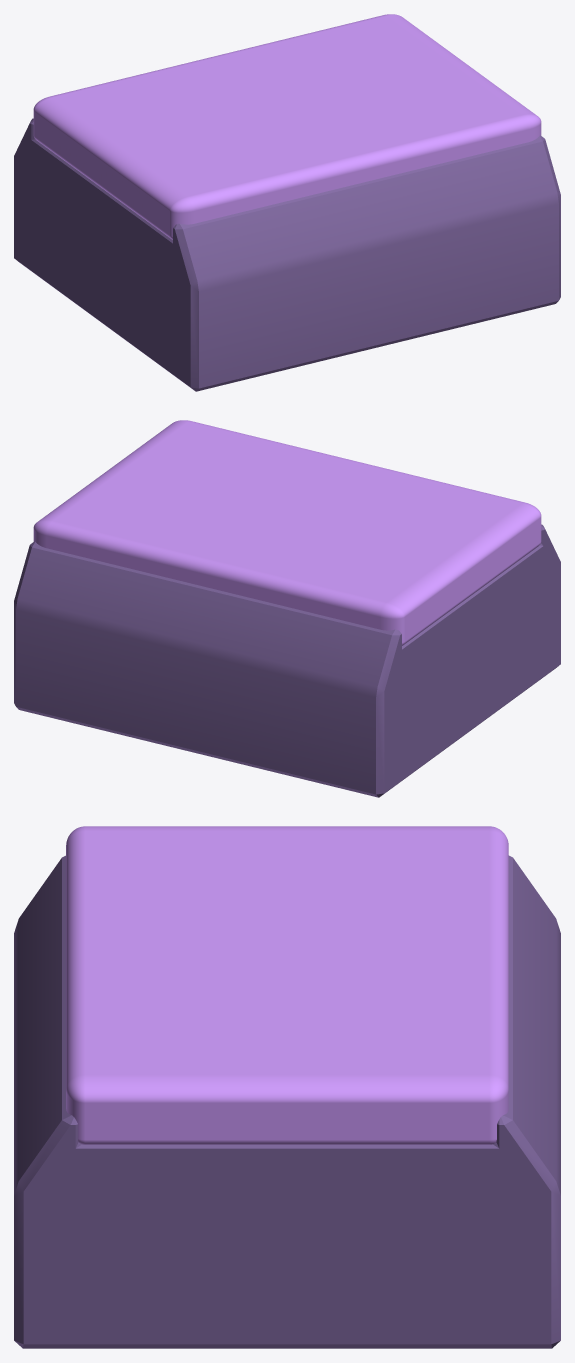
3 views of the same model, one above another, from view 1: azimuth 30°, elevation 25°; view 2: azimuth 150°, elevation 25°; view 3: azimuth 270°, elevation 25° (orthographic). The views are drawn at different scales.
Parts seen in each view (by area): view 1: Cube.009, Plane.012; view 2: Cube.009, Plane.012; view 3: Plane.012, Cube.009.
Boxes of the visible parts, x1,y1,x2,y2 form: Cube.009: (14,118,560,391); Plane.012: (33,14,541,239); Cube.009: (14,524,560,797); Plane.012: (33,420,541,645); Plane.012: (66,826,508,1144); Cube.009: (14,855,560,1348).
Bounding box in the file's own units: 155 × 70.78 × 133.
